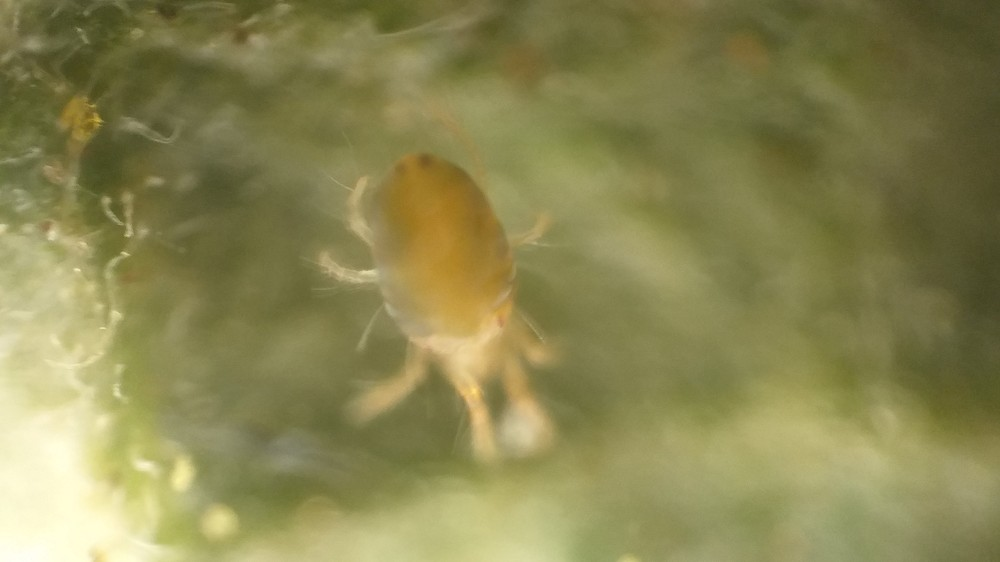Aracnido Rojo: (296, 92, 603, 503)
